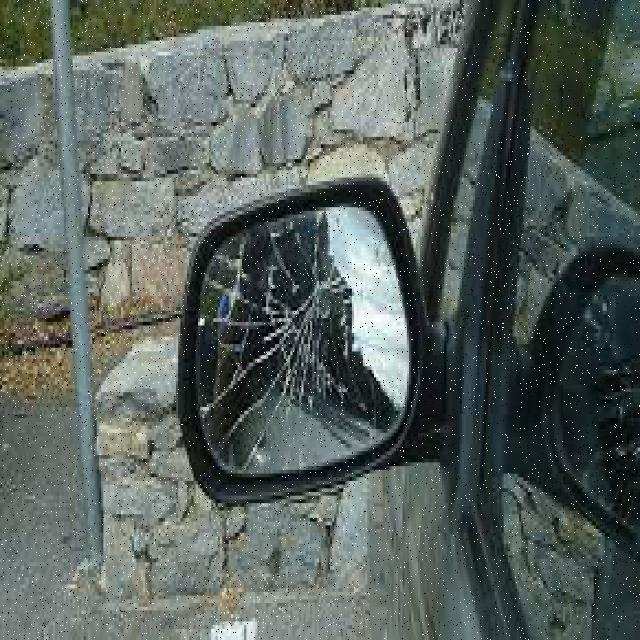Sidemirror-Damage: (163, 163, 436, 514)
